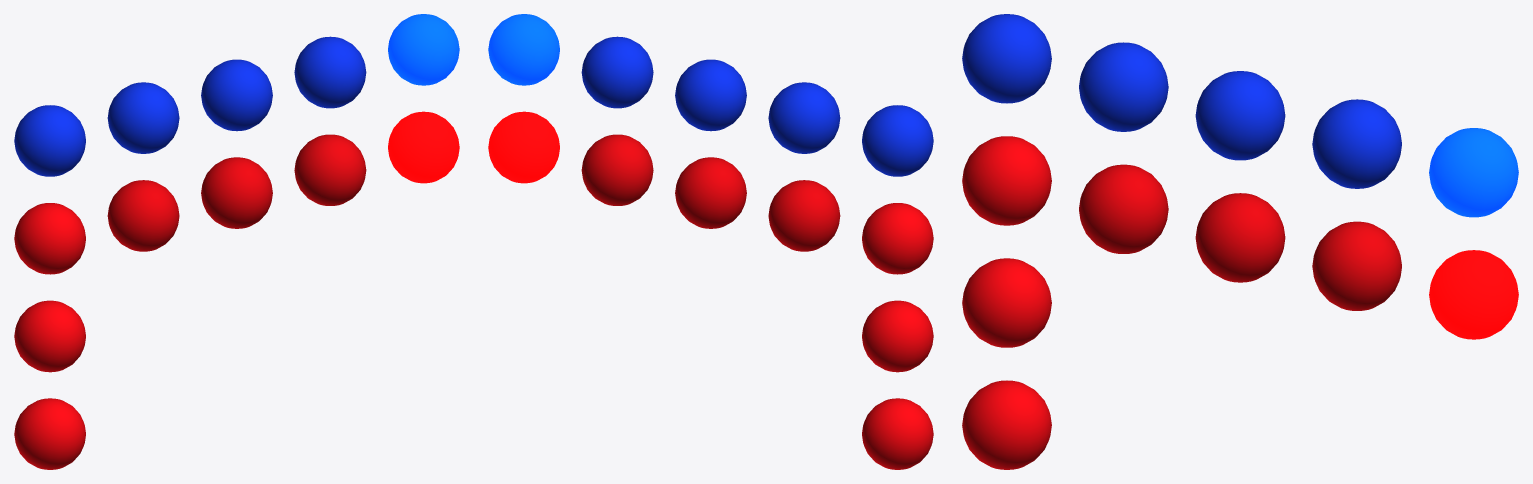
The model's file is MaterialTests_01.glb.
3 views of the same model, side by side, from view 1: azimuth 30°, elevation 25°; view 2: azimuth 150°, elevation 25°; view 3: azimuth 330°, elevation 25° (orthographic). The views are drawn at different scales.
Visible parts, largest first — view 1: Sphere, Sphere.002, Sphere.001; view 2: Sphere, Sphere.002, Sphere.001; view 3: Sphere, Sphere.002, Sphere.001.
Part boxes in pixels (<box>): Sphere: <box>14,14,459,274</box>; Sphere.002: <box>14,398,85,469</box>; Sphere.001: <box>14,300,85,372</box>; Sphere: <box>488,14,933,274</box>; Sphere.002: <box>862,398,933,469</box>; Sphere.001: <box>862,300,933,372</box>; Sphere: <box>962,14,1518,339</box>; Sphere.002: <box>962,380,1051,469</box>; Sphere.001: <box>962,258,1051,347</box>.
Size of the model in its own units: 7 by 5.5 by 1.
Materials: 1 (1 with a texture image).
